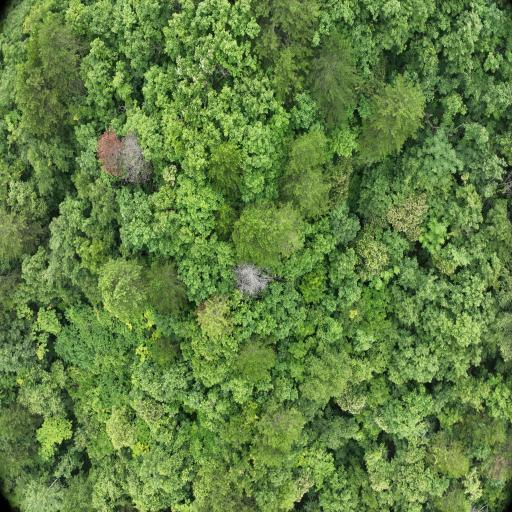dead-tree: (237, 266, 263, 290), (127, 141, 142, 175)
sick-tree: (102, 137, 122, 172)
